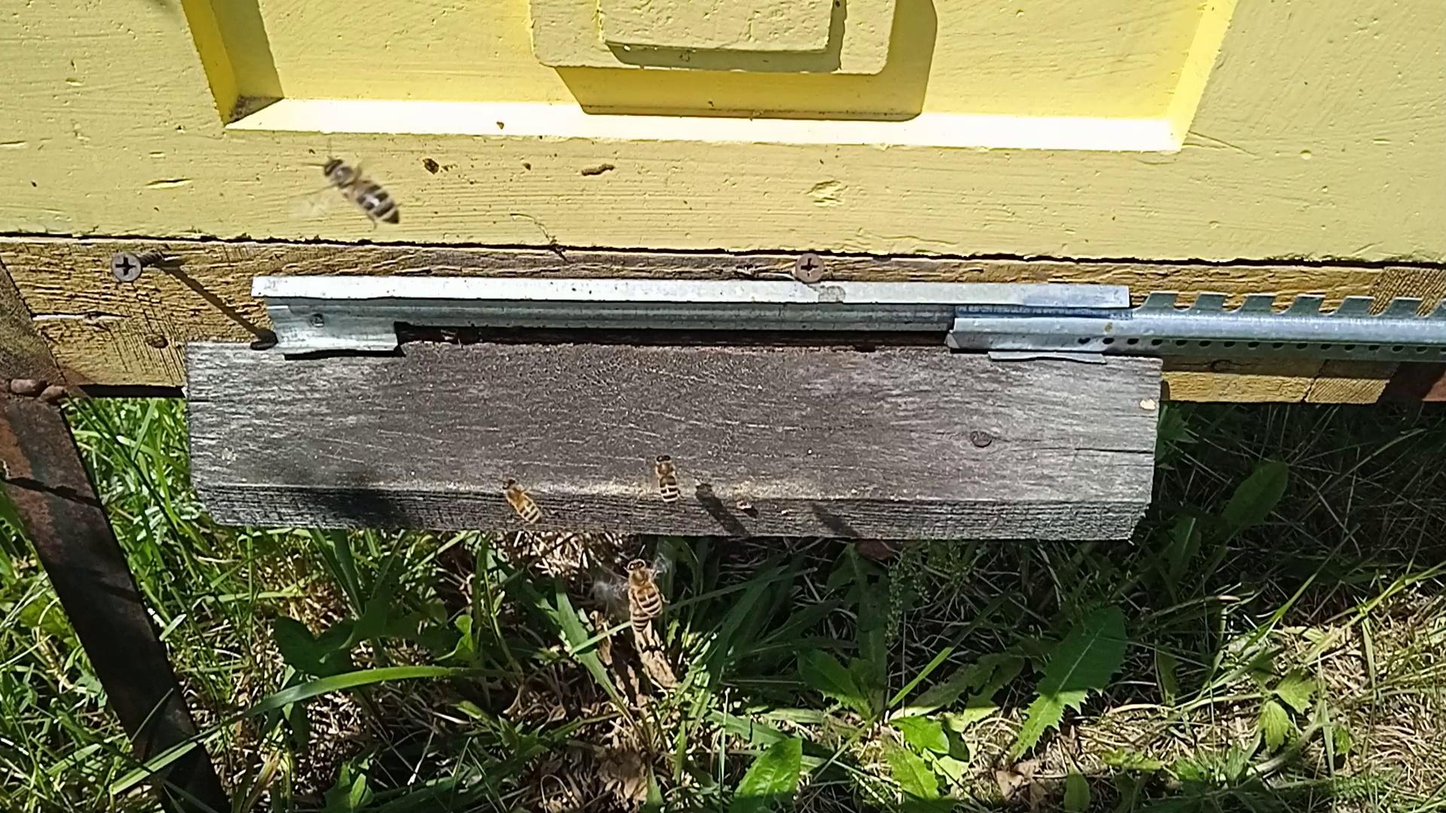worker-bee: (319, 157, 401, 225), (622, 556, 663, 620), (502, 478, 542, 522), (652, 452, 682, 507), (628, 590, 651, 636), (437, 327, 457, 343)
